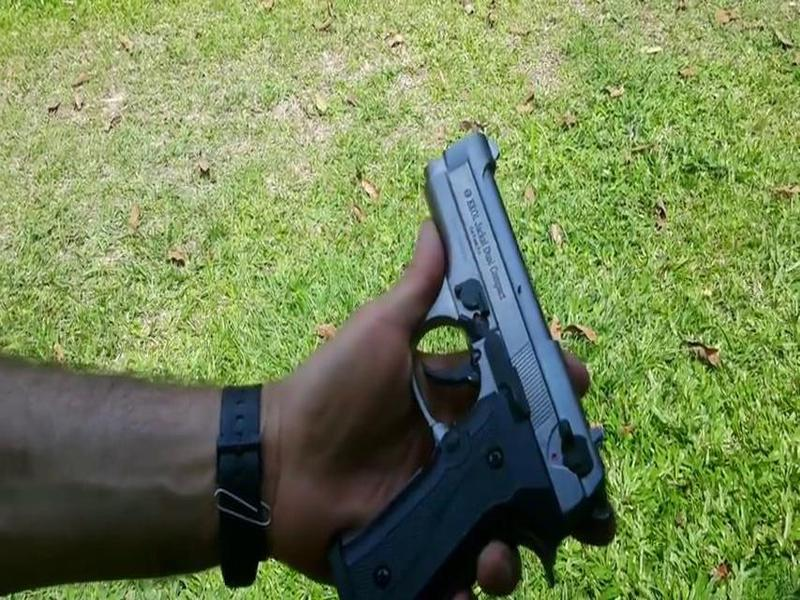Pistola: (330, 111, 615, 600)
